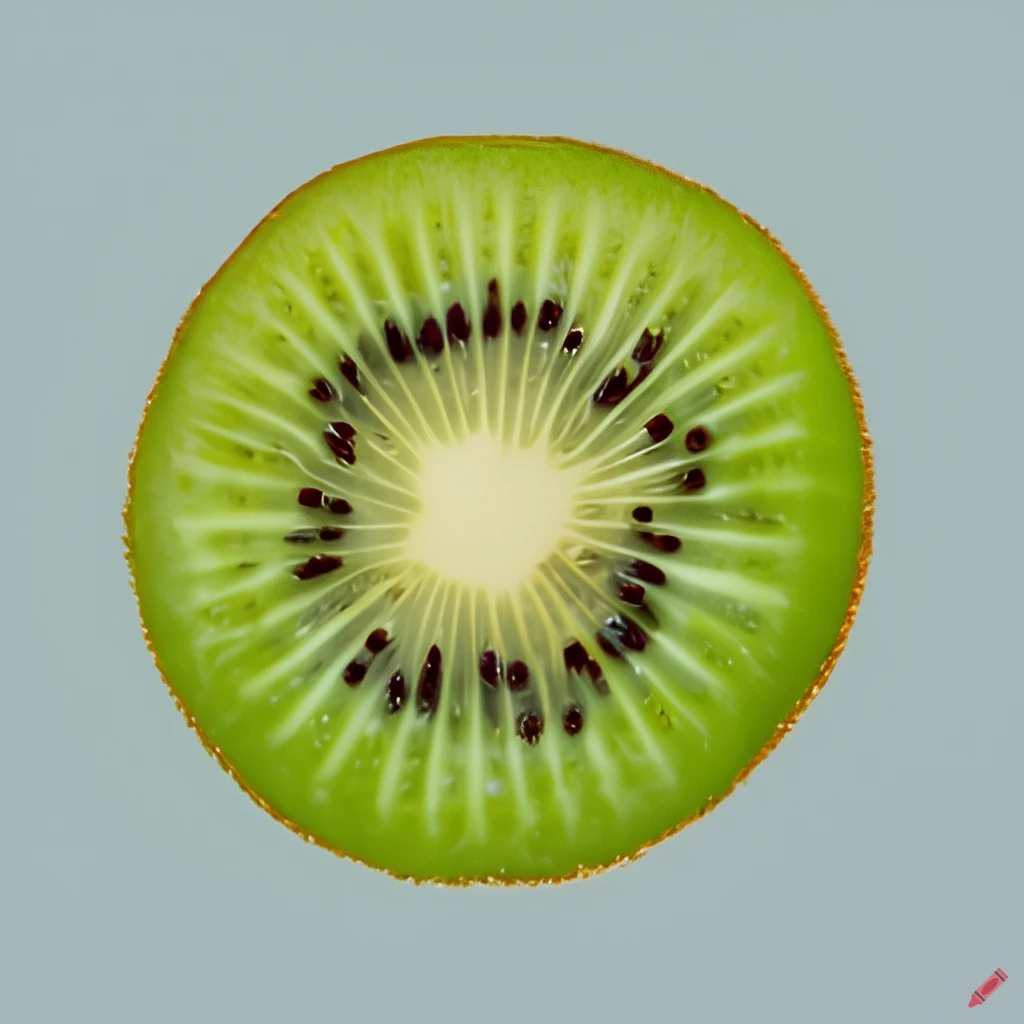Kiwi: (107, 130, 873, 876)
